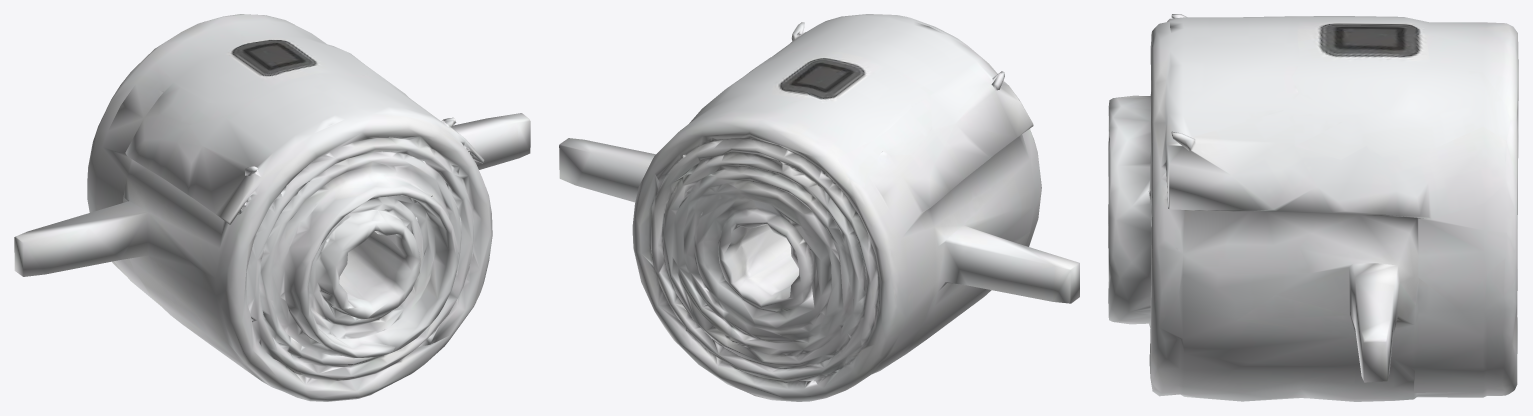
Rendered from item_bandage.glb.
3 renders of one model, left to right at view 1: azimuth 30°, elevation 25°; view 2: azimuth 150°, elevation 25°; view 3: azimuth 270°, elevation 25°, orthographic. The views are drawn at different scales.
Bounding box in the file's own units: 1.91 × 1.02 × 1.09.
1 material, 1 textured.
